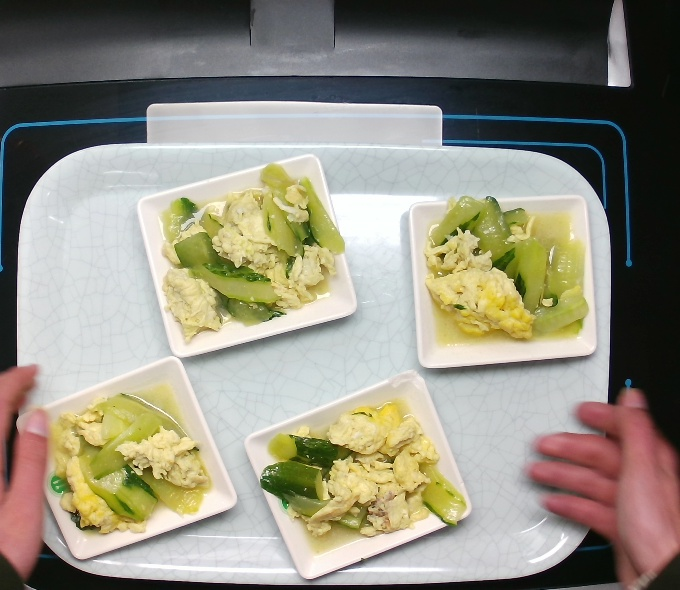wcq-DanHuangHuangGua: (146, 161, 346, 343), (251, 394, 469, 558), (415, 187, 595, 351), (33, 381, 213, 545)
